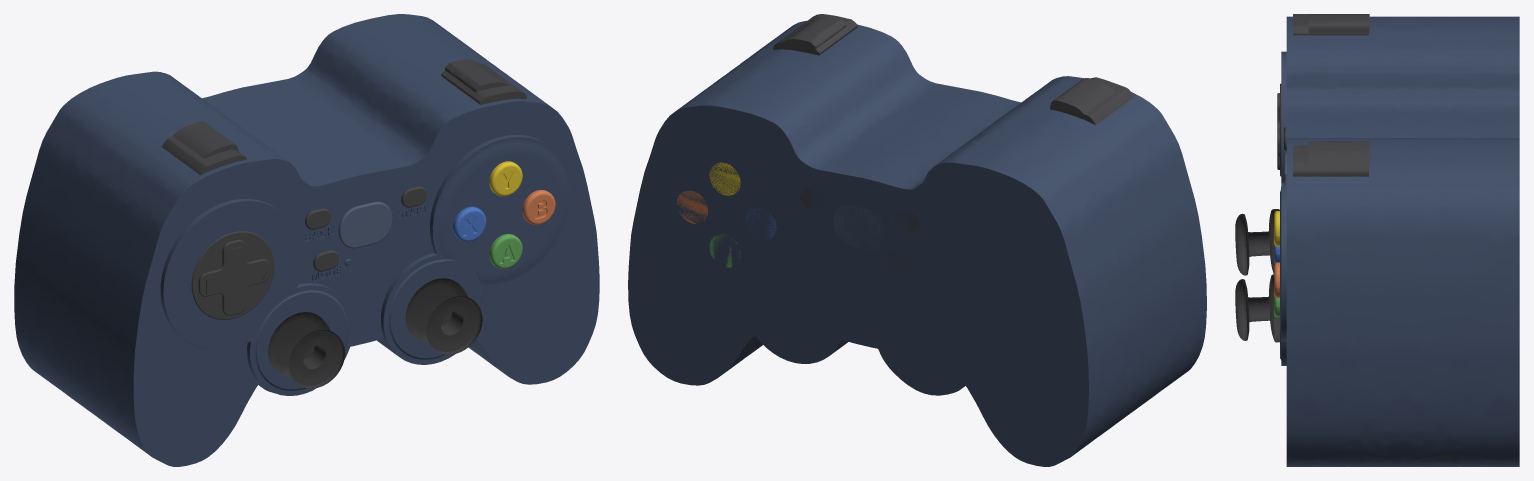
File: GamepadAssembly.glb
3 renders of one model, left to right at view 1: azimuth 30°, elevation 25°; view 2: azimuth 150°, elevation 25°; view 3: azimuth 270°, elevation 25°, orthographic. The views are drawn at different scales.
Visible parts, largest first — view 1: empty_7, empty_17, empty_11, empty_9, empty_8, empty_2, empty_4, empty_15, empty_3, empty_5, empty_10, empty_13 (+1 smaller); view 2: empty_7, empty_8, empty_2, empty_4, empty_15, empty_3, empty_5, empty_6; view 3: empty_7, empty_11, empty_9, empty_3, empty_15, empty_2, empty_4, empty_17.
Part boxes in pixels (<box>): empty_7: <box>14,14,599,466</box>; empty_17: <box>191,231,274,319</box>; empty_11: <box>405,278,482,354</box>; empty_9: <box>268,312,345,388</box>; empty_8: <box>338,201,392,248</box>; empty_2: <box>173,121,238,158</box>; empty_4: <box>162,136,246,175</box>; empty_15: <box>445,59,508,92</box>; empty_3: <box>441,63,526,104</box>; empty_5: <box>489,161,522,196</box>; empty_10: <box>453,206,486,241</box>; empty_13: <box>489,234,522,268</box>; empty_7: <box>628,21,1206,466</box>; empty_8: <box>833,205,884,250</box>; empty_2: <box>1050,78,1114,114</box>; empty_4: <box>1050,77,1133,124</box>; empty_15: <box>783,16,846,49</box>; empty_3: <box>773,14,857,55</box>; empty_5: <box>709,162,740,195</box>; empty_6: <box>676,190,707,223</box>; empty_7: <box>1280,16,1519,466</box>; empty_11: <box>1235,274,1279,342</box>; empty_9: <box>1235,209,1279,275</box>; empty_3: <box>1293,145,1368,176</box>; empty_15: <box>1308,141,1369,162</box>; empty_2: <box>1308,14,1369,33</box>; empty_4: <box>1293,14,1368,35</box>; empty_17: <box>1277,83,1281,176</box>.
Bounding box in the file's own units: 85.97 × 53.54 × 46.54.
